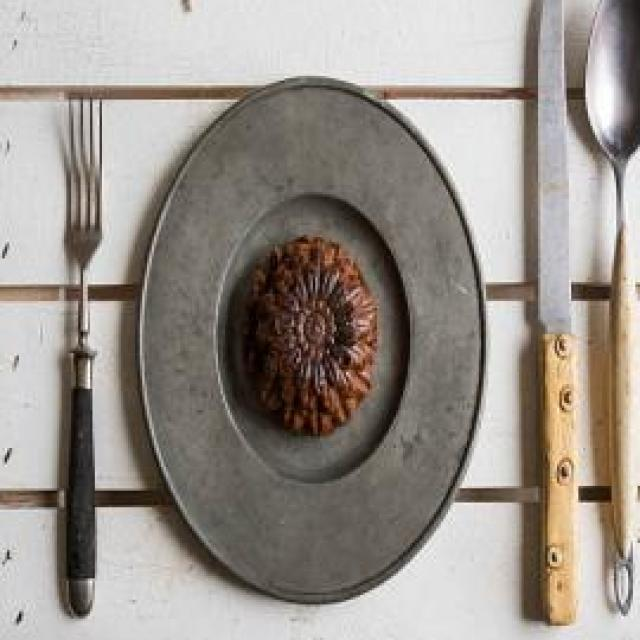knife: (538, 0, 581, 628)
